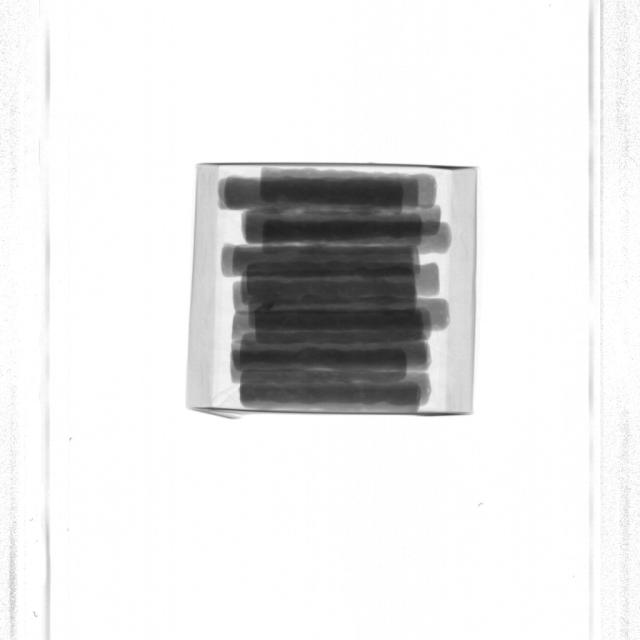ym: (254, 302, 276, 313)
